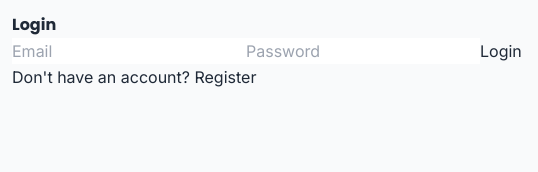
Test: Login Page › displays error on failure
In the field with placeholder "Email": (129, 51) top-left (12, 38), bottom-right (246, 64), type "x@x.com"
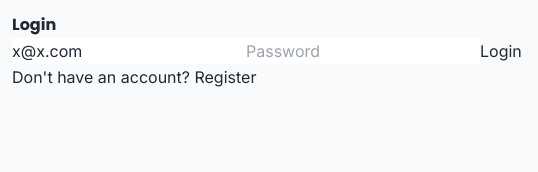
In the password field with placeholder "Password": (363, 51) top-left (246, 38), bottom-right (480, 64), type "pwd"
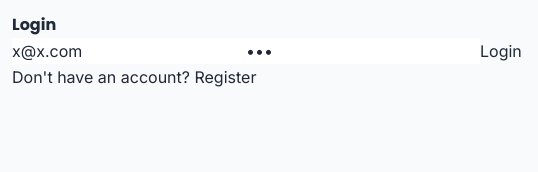
Click the button "Login": (501, 51) top-left (480, 38), bottom-right (522, 64)
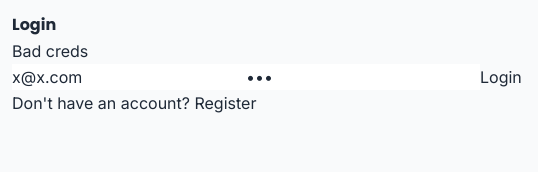
Now the text "Bad creds" is shown, box top-left (12, 41), bottom-right (88, 61)
